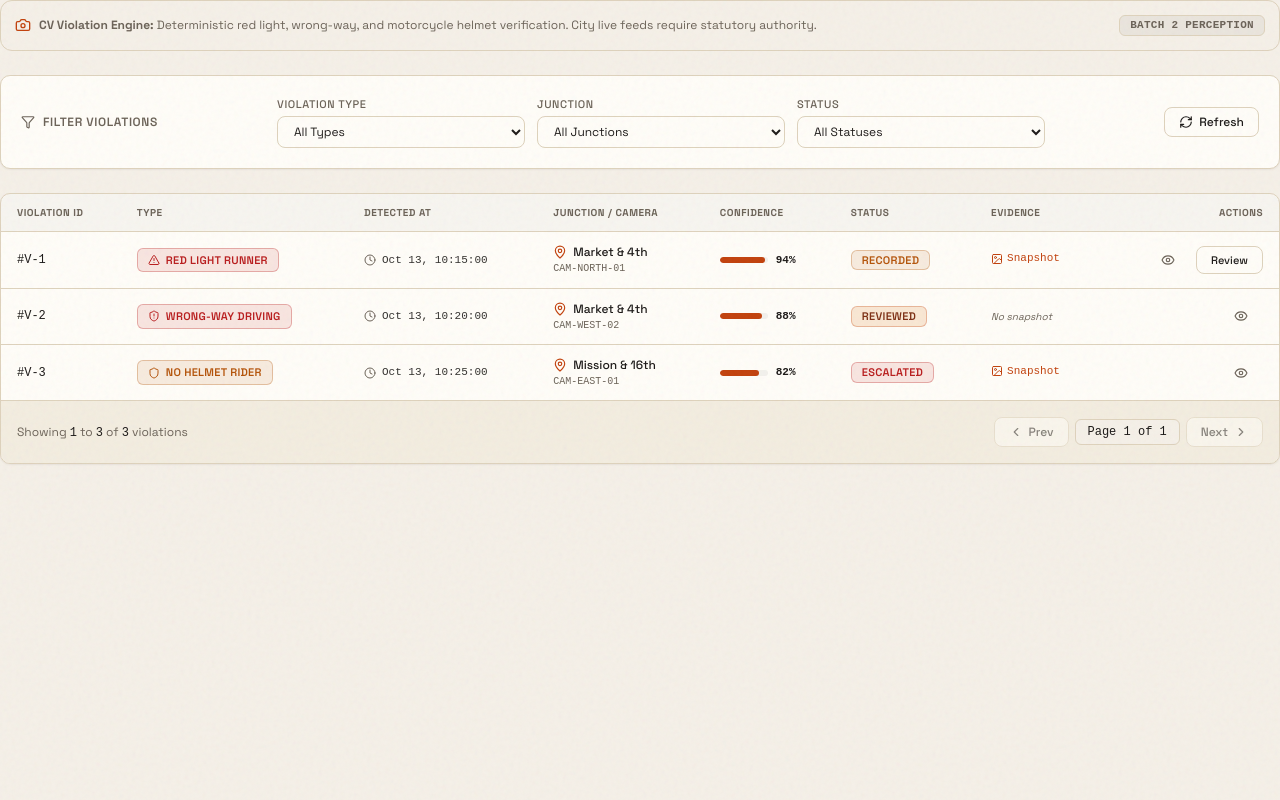
it: ViolationsList Component › opens details modal when a violation row is inspected
// Click details button for violation 1
What coordinates should you click on to do the following:
click the button titled "View Details" in the row of "Red Light Runner"
I would click on:
 (1168, 260)
Its box is [1146,246,1190,274].
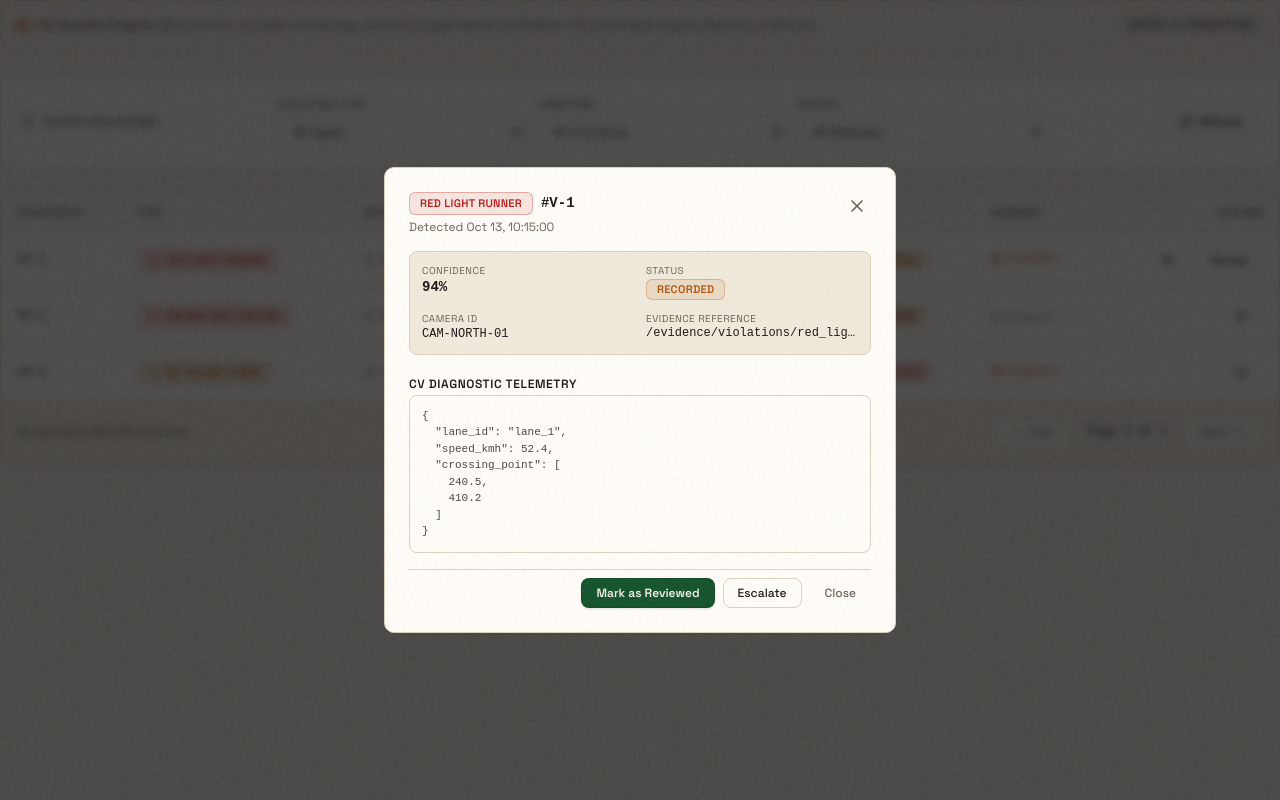
Now the text "CV Diagnostic Telemetry" is shown, box [409,376,577,392]
Now the text "speed_kmh" is shown, box [422,410,567,537]
